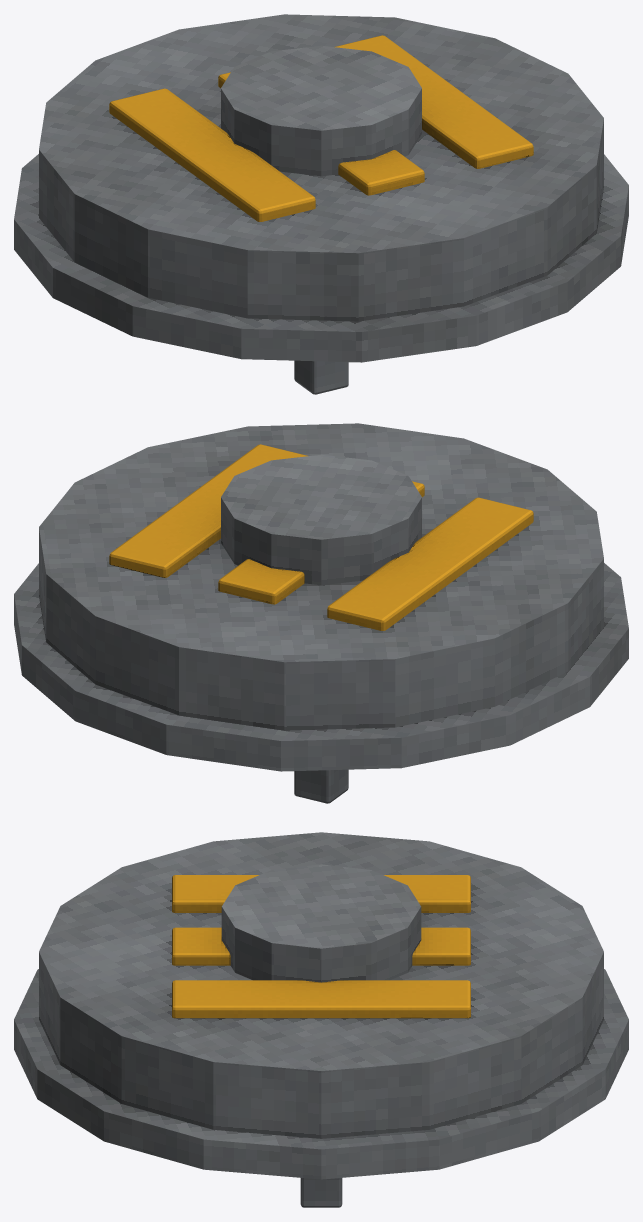
File: arena_mine_mine.glb
The picture shows the model from 3 angles, top to bottom: view 1: azimuth 30°, elevation 25°; view 2: azimuth 150°, elevation 25°; view 3: azimuth 270°, elevation 25°; orthographic projection.
Visible parts, largest first — view 1: arena_mine_mine; view 2: arena_mine_mine; view 3: arena_mine_mine.
Part boxes in pixels (x1,y1,x2,y2): arena_mine_mine: (14, 14, 628, 394); arena_mine_mine: (14, 423, 628, 803); arena_mine_mine: (14, 832, 628, 1207).
Bounding box in the file's own units: 0.74 × 0.25 × 0.74.
2 materials, 2 textured.
